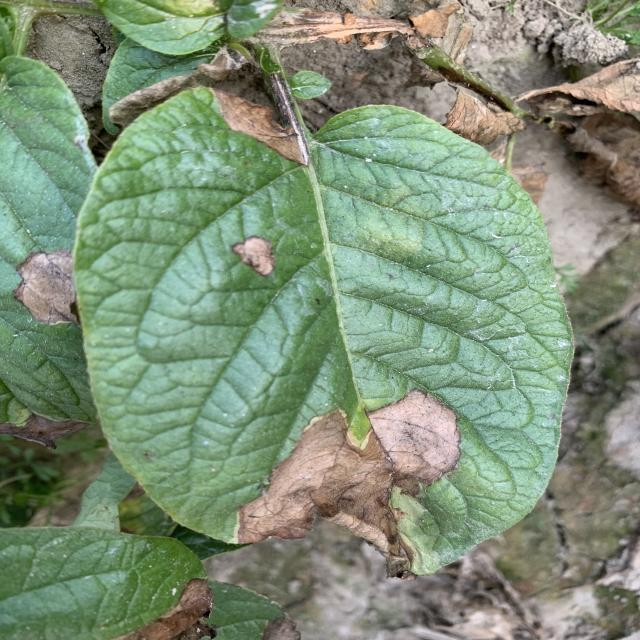lateblight: (237, 390, 460, 560), (213, 90, 305, 164), (13, 249, 77, 325), (232, 236, 275, 276)
